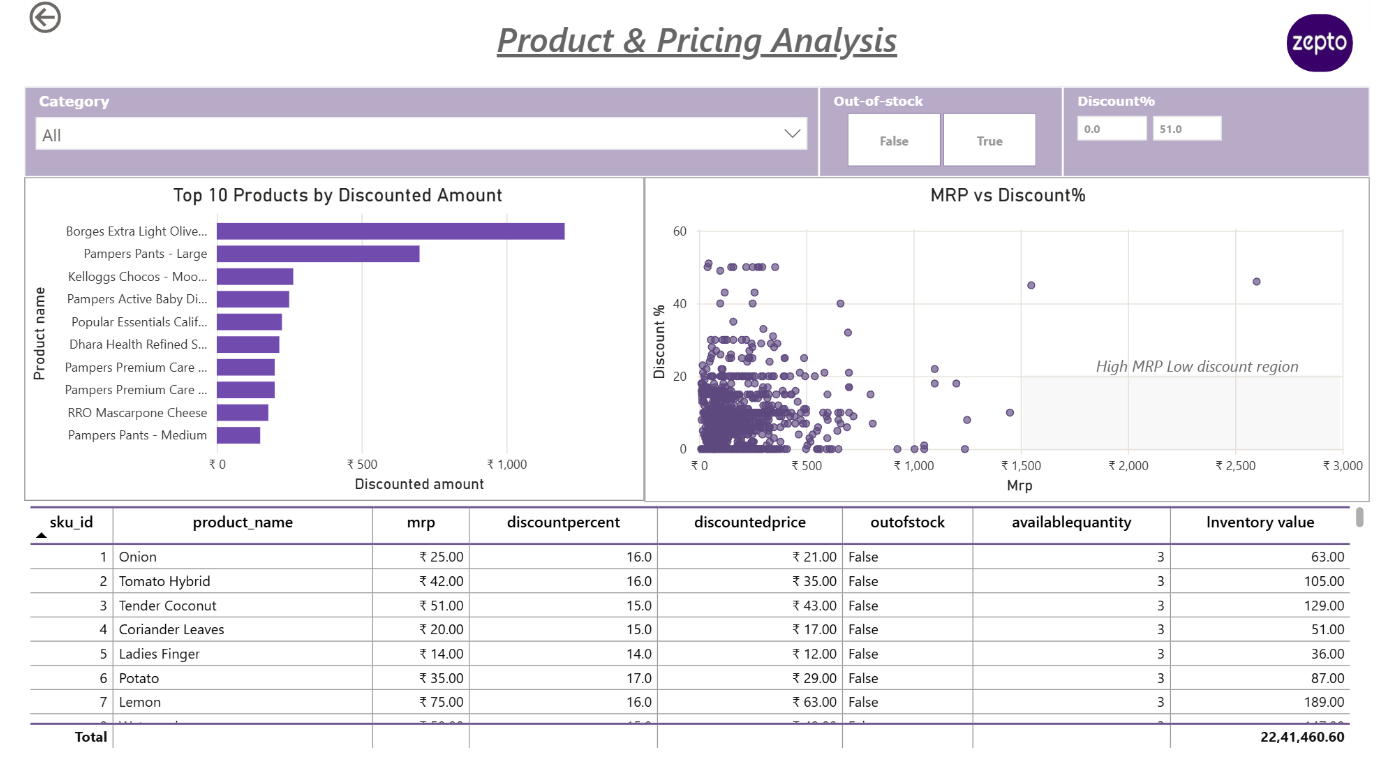

The page's visual inventory and layout, read from the dashboard file:
{"tool":"powerbi","page":{"name":"Product & Pricing","canvas":[1280,720],"ordinal":1},"visuals":[{"type":"shape","box":[950,360,302.2,72.2],"z":0},{"type":"barChart","title":"Top 10 Products by Discounted Amount","fields":{"Y":["Max(zepto.Discounted amount)"],"Category":["zepto.product_name"]},"box":[0,172,590,308.3],"z":1000},{"type":"tableEx","fields":{"Values":["zepto.sku_id","zepto.product_name","zepto.mrp","zepto.discountpercent","zepto.discountedprice","zepto.outofstock","zepto.availablequantity","zepto.Inventory value"]},"box":[0,480,1280,240],"z":2000},{"type":"slicer","fields":{"Values":["zepto.category"]},"box":[0,86,756,86],"z":3000},{"type":"slicer","fields":{"Values":["zepto.outofstock"]},"box":[756,86,232,86],"z":4000},{"type":"slicer","fields":{"Values":["zepto.discountpercent"]},"box":[988,86,292,86],"z":5000},{"type":"actionButton","box":[0,0,100,40],"z":6000},{"type":"scatterChart","title":"MRP vs Discount% ","fields":{"X":["zepto.mrp"],"Y":["zepto.discountpercent"]},"box":[590,172.2,690,308.9],"z":7000},{"type":"image","box":[1201.1,17.1,63.1,54.6],"z":8000},{"type":"textbox","box":[423.3,13.3,434,54],"z":8001},{"type":"textbox","box":[1000,335.6,232.2,33.3],"z":8002}]}

Visuals, with their boxes in screenshot pixels (x1, y1, x2, y2), scaled from the page's 1280x720 canvas onto the 1386x764 screenshot:
shape: 1029,382,1356,459
"Top 10 Products by Discounted Amount" barChart: 0,183,639,510
tableEx - zepto.sku_id x zepto.product_name: 0,509,1385,763
slicer - zepto.category: 0,91,819,183
slicer - zepto.outofstock: 819,91,1070,183
slicer - zepto.discountpercent: 1070,91,1385,183
actionButton: 0,0,108,42
"MRP vs Discount% " scatterChart: 639,183,1385,511
image: 1301,18,1369,76
textbox: 458,14,928,71
textbox: 1083,356,1334,391
